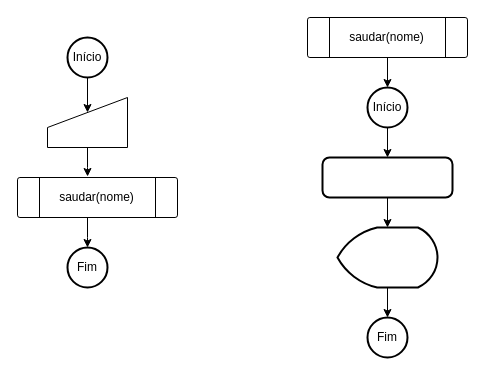
The diagram is 485 pixels wide and 376 high, and some of its shapes have lost their labels. Here are the shapes that lost their labels. From the top down, the centre of each, then its label:
the point at 87,122: nome
the point at 387,177: msg = "Olá" + nome + ", Deus abençoe!"
the point at 387,257: msg
